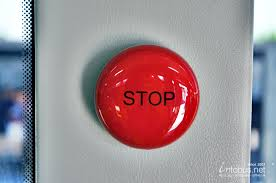bell: (93, 40, 201, 154)
